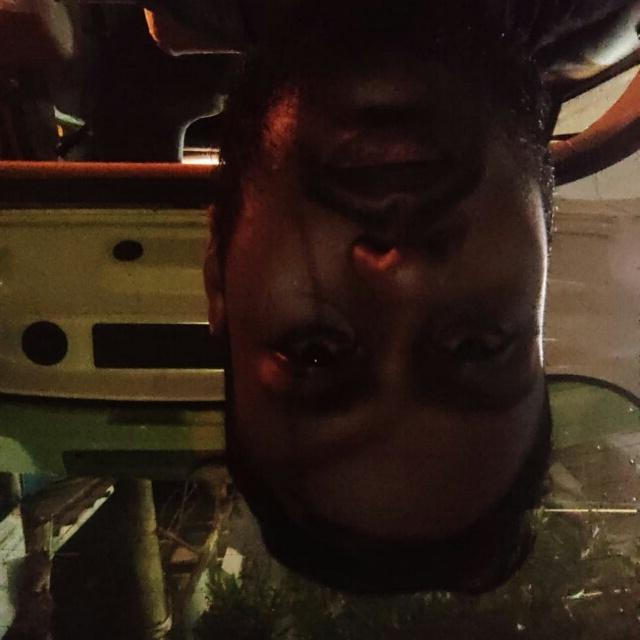Natural: (195, 40, 567, 576)
